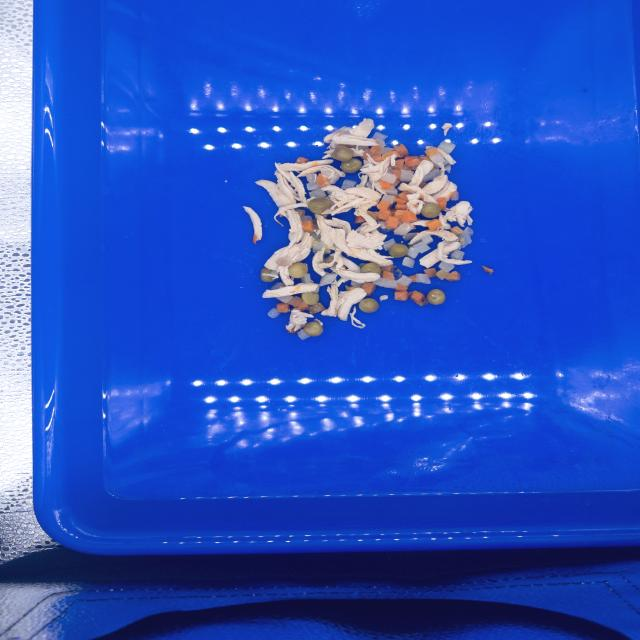Carrot: (365, 144, 408, 162), (377, 199, 398, 228), (425, 268, 461, 282), (379, 169, 402, 189), (287, 296, 308, 312), (391, 210, 417, 222), (408, 291, 427, 306), (395, 284, 409, 300), (361, 282, 376, 296), (307, 303, 325, 314), (405, 156, 421, 168), (426, 219, 442, 231), (394, 191, 410, 203), (317, 173, 330, 187), (277, 302, 290, 313), (302, 221, 314, 232), (437, 198, 447, 210), (382, 271, 395, 280), (425, 147, 438, 155), (367, 211, 380, 219), (393, 160, 404, 169), (295, 157, 308, 164), (483, 266, 493, 275), (400, 164, 412, 171), (382, 265, 394, 272), (346, 285, 360, 291), (355, 215, 365, 223), (396, 203, 407, 210), (323, 255, 334, 262), (419, 156, 431, 162), (409, 275, 417, 283), (360, 152, 367, 160), (253, 235, 257, 244)
Chicken_Shred: (255, 162, 317, 286), (313, 214, 394, 287), (321, 175, 386, 250), (398, 160, 457, 204), (323, 118, 379, 157), (321, 284, 367, 321), (358, 154, 397, 196), (419, 241, 472, 269), (280, 159, 346, 179), (436, 201, 473, 230), (263, 283, 318, 298), (408, 229, 458, 244), (286, 308, 314, 334), (243, 206, 262, 241), (406, 193, 423, 215), (350, 306, 366, 328), (437, 149, 457, 165), (410, 220, 432, 227), (322, 149, 335, 159), (442, 123, 452, 136), (262, 273, 279, 279), (314, 319, 323, 326)
Peas: (330, 146, 354, 161), (308, 198, 330, 214), (289, 262, 308, 278), (341, 158, 361, 173), (359, 298, 379, 313), (304, 321, 323, 336), (421, 203, 440, 218), (427, 289, 446, 304), (389, 244, 408, 258), (302, 291, 319, 305), (260, 268, 276, 282), (361, 263, 381, 274)
Potato_White: (314, 271, 338, 293), (373, 276, 412, 289), (310, 231, 330, 255), (458, 226, 473, 248), (306, 173, 322, 191), (394, 222, 415, 235), (373, 131, 388, 148), (437, 141, 456, 154), (295, 210, 313, 223), (422, 169, 440, 182), (413, 241, 431, 253), (396, 275, 412, 287), (429, 154, 445, 165), (309, 188, 326, 198), (438, 262, 455, 272), (406, 246, 419, 259), (399, 170, 413, 182), (341, 179, 356, 190), (381, 173, 396, 184), (383, 239, 396, 251), (450, 249, 464, 260), (275, 295, 294, 303), (298, 329, 311, 340), (384, 185, 397, 196), (416, 274, 430, 284), (403, 257, 415, 268), (383, 195, 396, 205), (268, 308, 280, 318), (421, 235, 433, 245), (329, 173, 340, 183), (301, 274, 313, 283), (451, 226, 464, 234), (271, 282, 283, 290), (405, 232, 417, 240), (320, 170, 331, 178), (380, 148, 394, 154), (450, 191, 459, 200), (377, 221, 386, 229), (351, 280, 363, 286), (444, 164, 451, 173), (365, 181, 372, 189), (433, 162, 440, 169), (340, 291, 348, 297), (386, 167, 392, 174), (271, 270, 279, 275), (412, 165, 418, 170), (442, 161, 448, 166)
